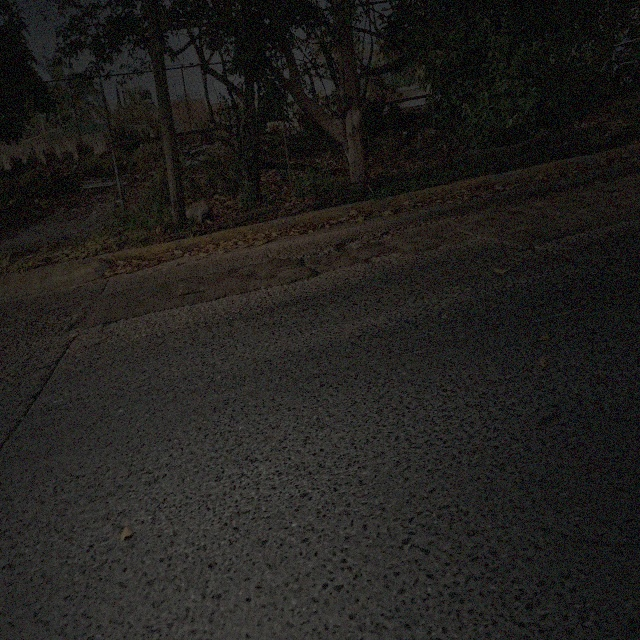pothole: (335, 235, 373, 249), (523, 242, 548, 256), (377, 235, 393, 238)
